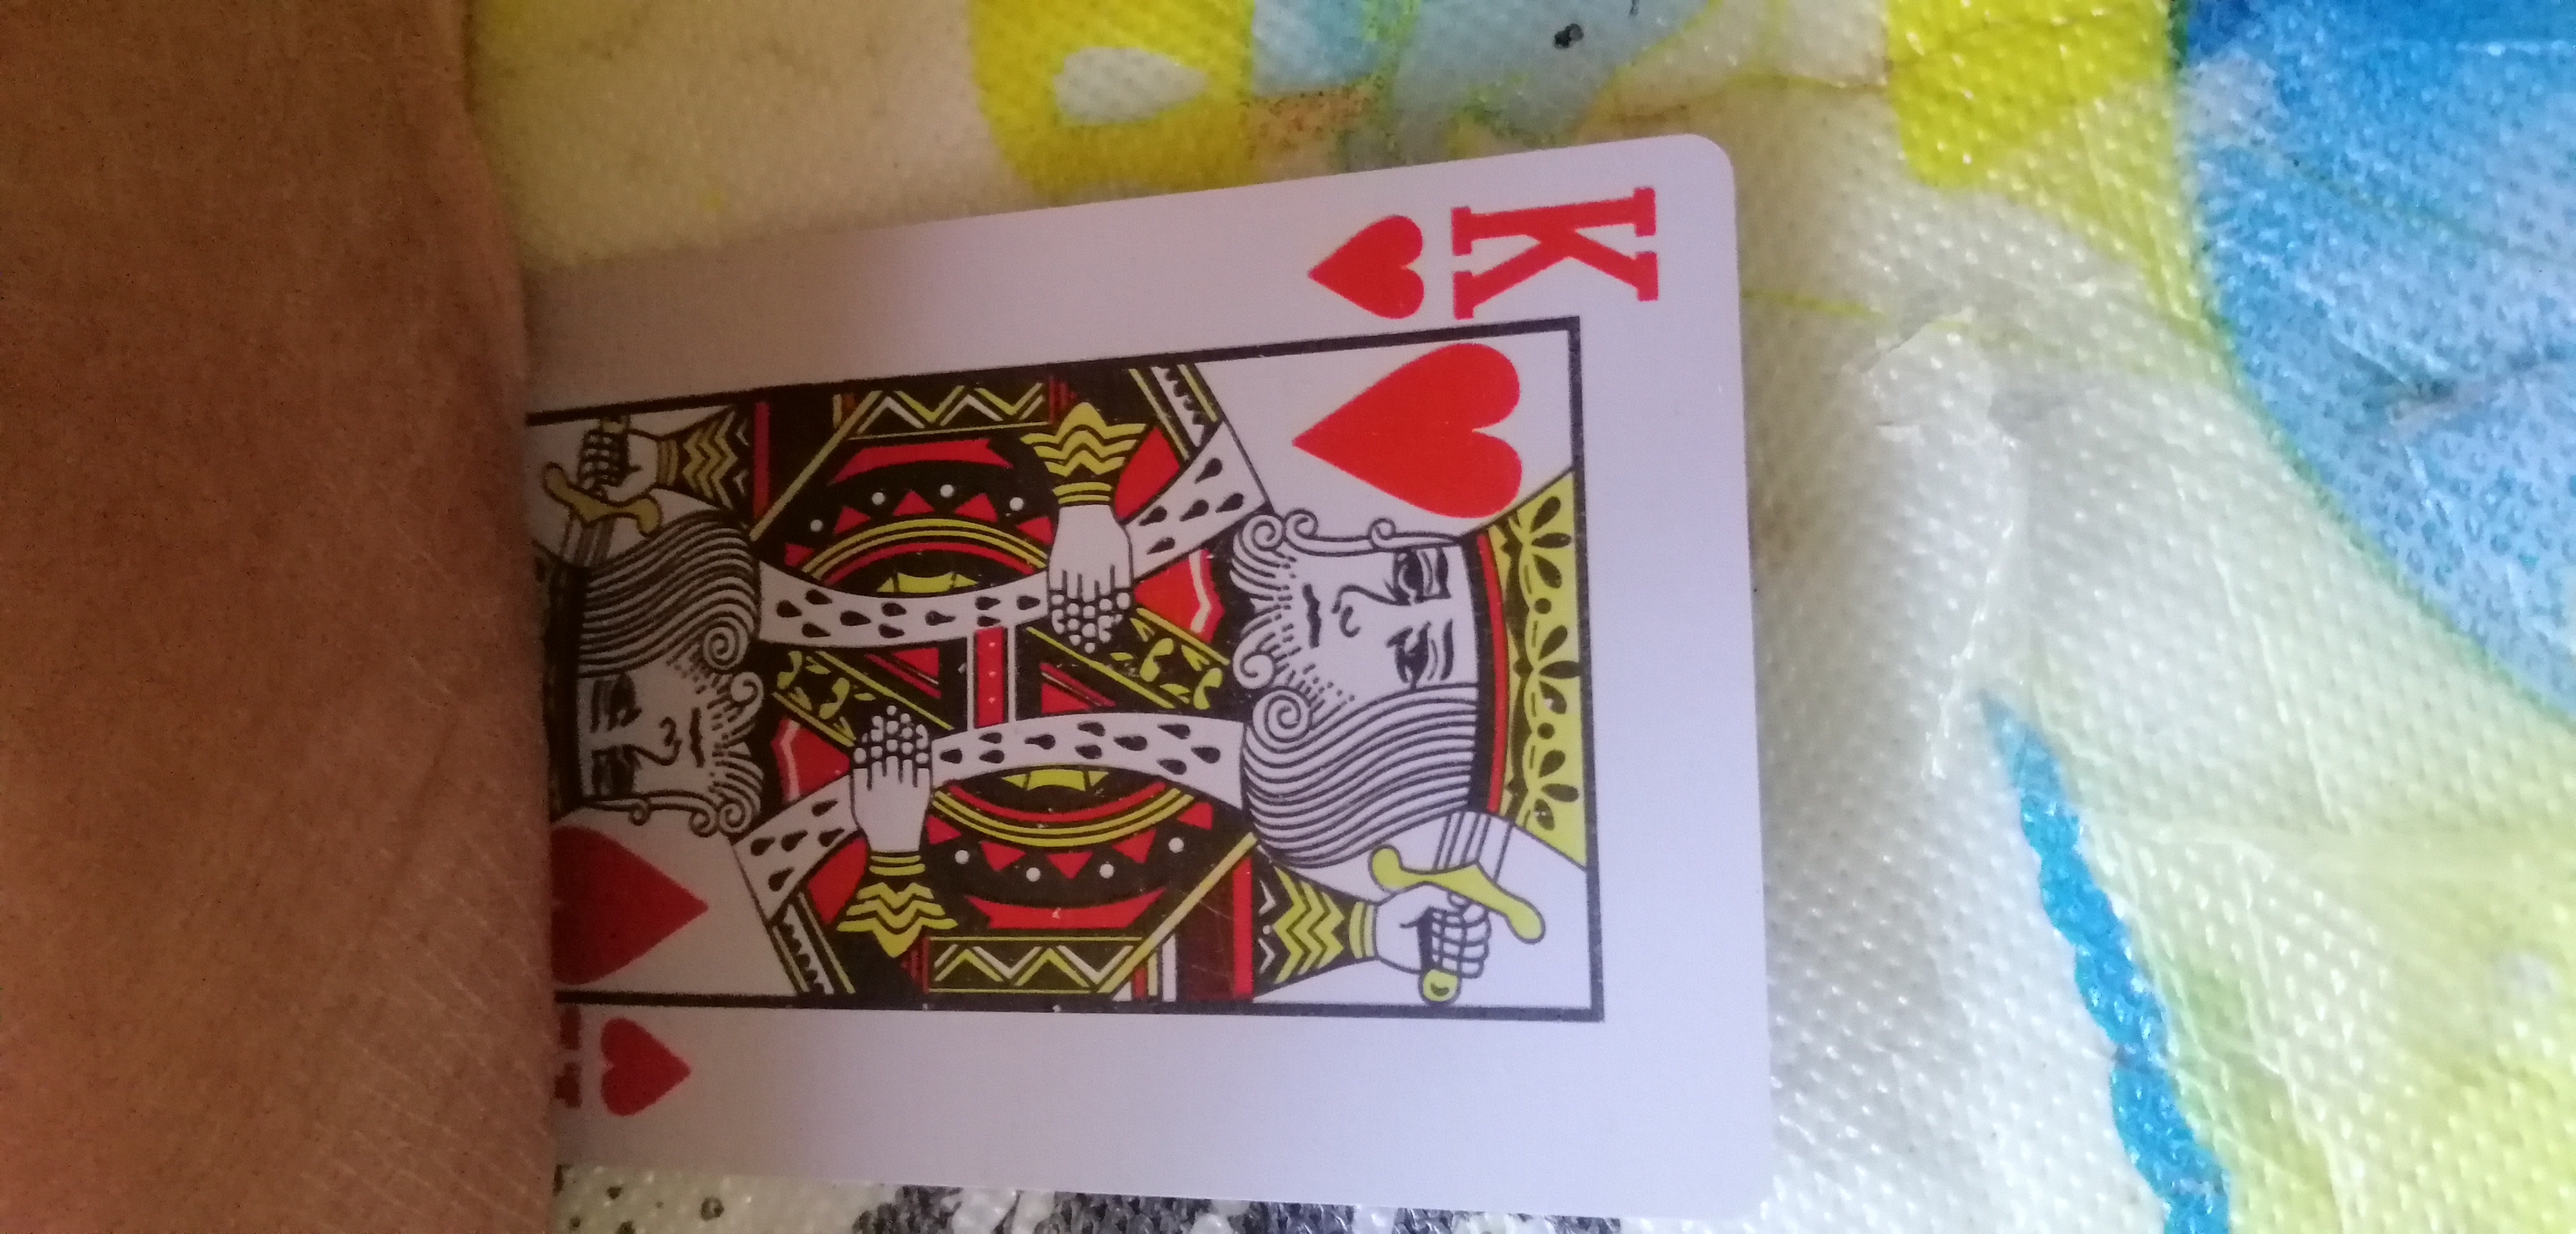king: (491, 182, 1763, 1219)
